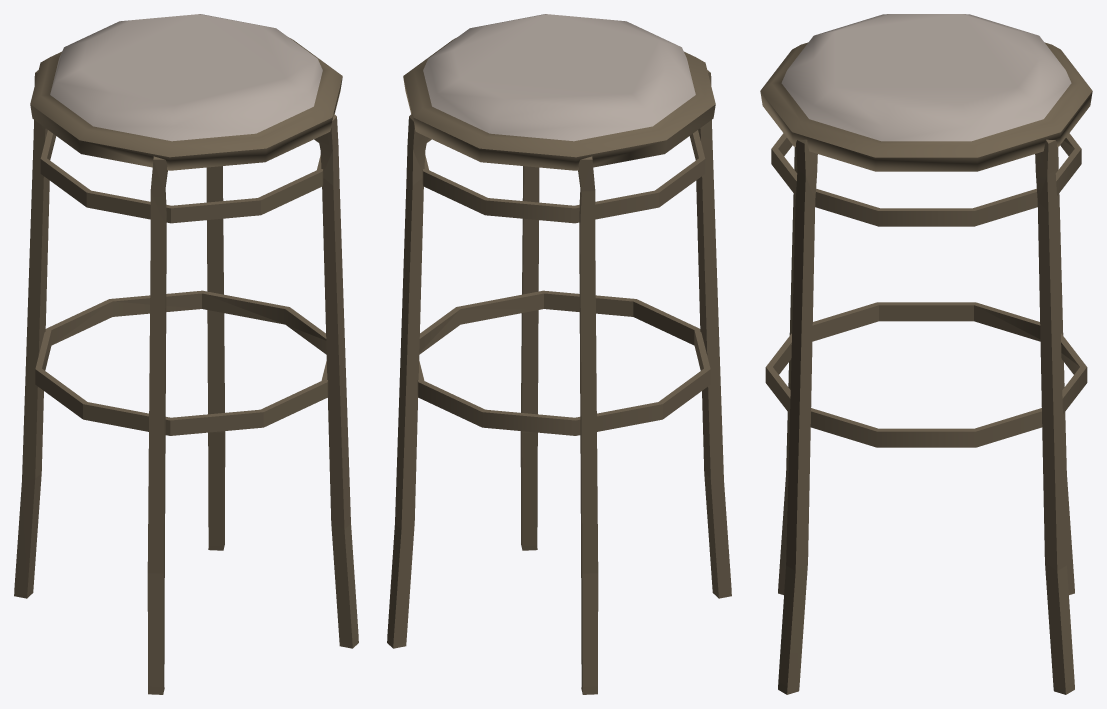
Rendered from stool.glb.
3 renders of one model, left to right at view 1: azimuth 30°, elevation 25°; view 2: azimuth 150°, elevation 25°; view 3: azimuth 270°, elevation 25°, orthographic. The views are drawn at different scales.
Parts seen in each view (by area): view 1: stool; view 2: stool; view 3: stool.
Part boxes in pixels (x1,y1,x2,y2): stool: (14,14,358,694); stool: (387,14,731,694); stool: (760,14,1092,694).
Size of the model in its own units: 0.3199 by 0.65 by 0.3363.
